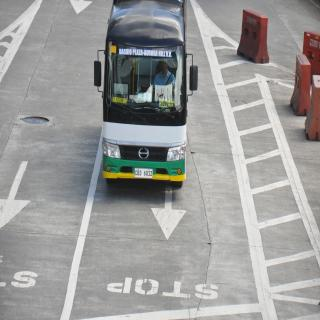license: (135, 169, 154, 180)
